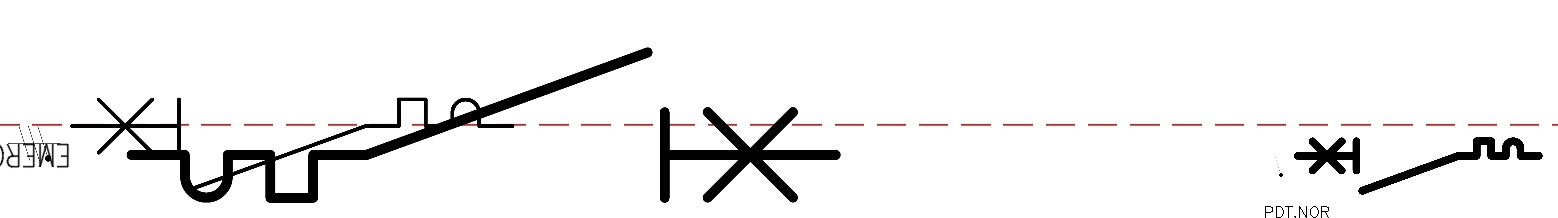interruptor_termomagnetico: (113, 34, 854, 216), (60, 88, 524, 201), (1291, 135, 1545, 197)
